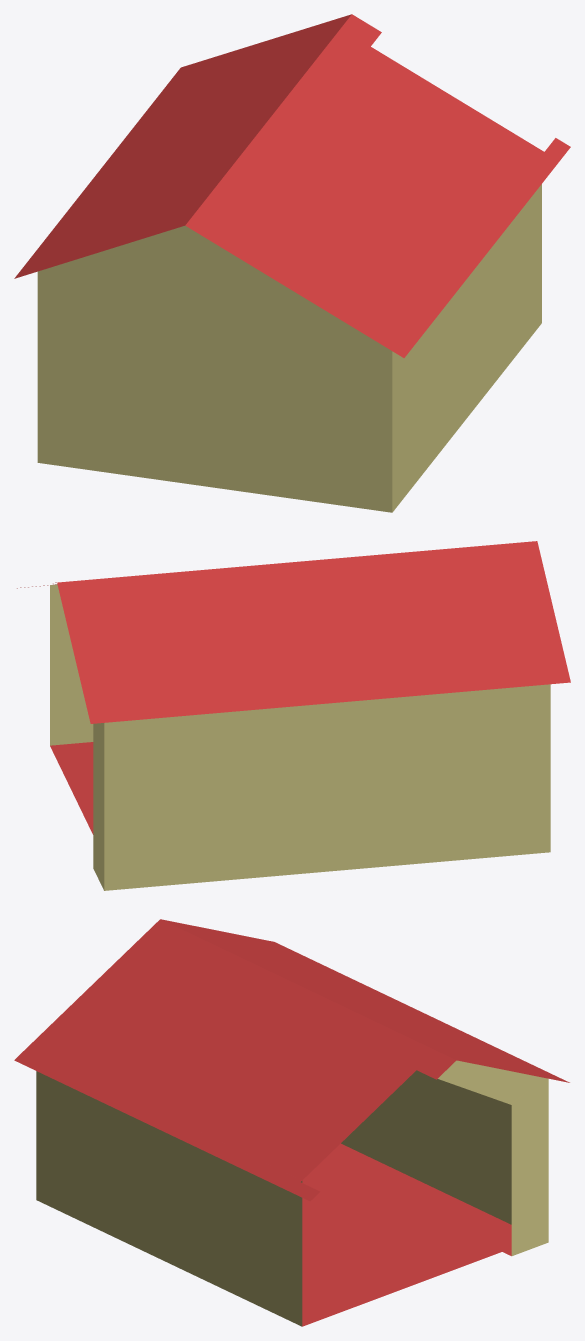
3 renders of one model, top to bottom at view 1: azimuth 30°, elevation 25°; view 2: azimuth 150°, elevation 25°; view 3: azimuth 270°, elevation 25°, orthographic. The views are drawn at different scales.
Parts seen in each view (by area): view 1: group_5, group_3; view 2: group_5, group_3, group_6; view 3: group_3, group_5, group_6.
Part boxes in pixels (box(x1,y1,x2,y2)): group_5: box(37, 184, 541, 512); group_3: box(14, 14, 570, 357); group_5: box(50, 584, 550, 890); group_3: box(17, 541, 570, 723); group_6: box(50, 742, 93, 834); group_3: box(14, 919, 569, 1201); group_5: box(36, 1060, 548, 1326); group_6: box(302, 1143, 511, 1326).
Bounding box in the file's own units: 26.81 × 26.41 × 11.8.
